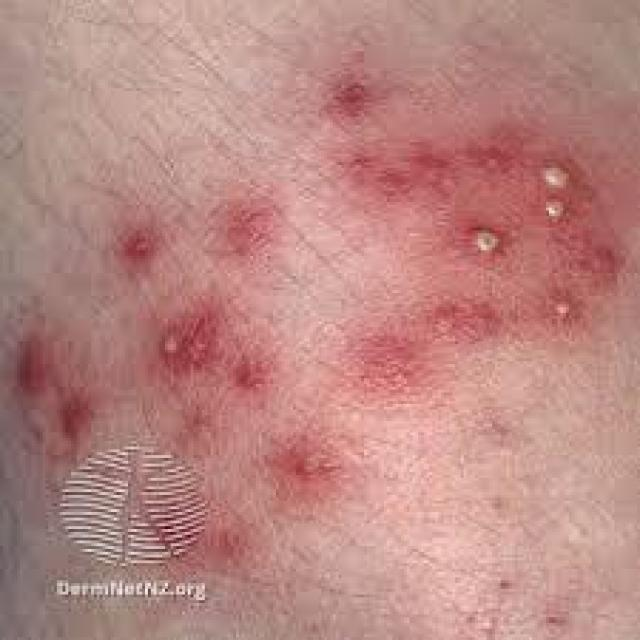8: (34, 304, 105, 478), (318, 40, 406, 151), (188, 179, 273, 273), (290, 432, 359, 510), (421, 304, 509, 338)
9: (148, 319, 190, 378)
whiteheads: (463, 213, 518, 279), (538, 282, 586, 341), (538, 148, 580, 196), (535, 188, 577, 228)
